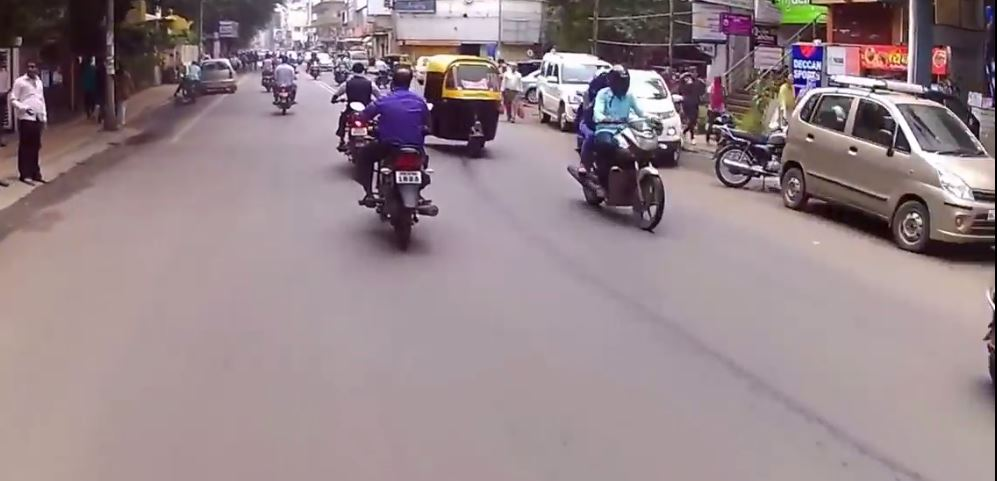autorickshaw: (420, 43, 510, 159)
car: (775, 79, 997, 263), (634, 57, 687, 171), (527, 41, 591, 132), (193, 49, 239, 98)
